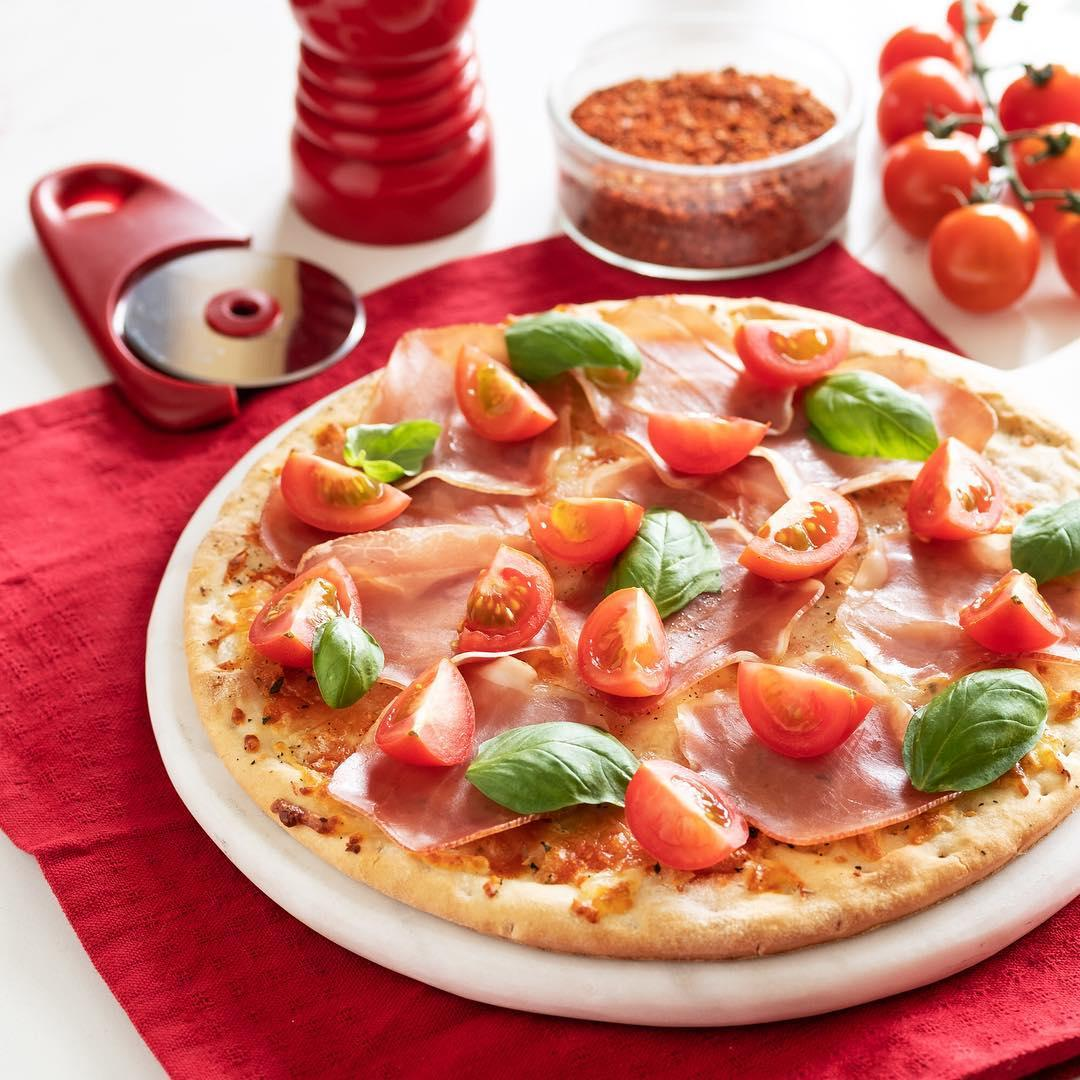Basil: (893, 665, 1046, 796), (471, 725, 644, 804), (807, 367, 924, 464), (513, 301, 634, 384), (627, 513, 718, 612), (349, 417, 440, 477), (1013, 505, 1080, 585), (315, 613, 381, 694)
Ham: (667, 685, 984, 841), (349, 669, 596, 832), (295, 529, 502, 641), (641, 553, 834, 664), (597, 329, 789, 429), (425, 455, 560, 534), (389, 333, 466, 444)
Pizza: (173, 285, 1080, 956)
Tomatoes: (275, 437, 414, 528), (629, 757, 740, 866), (735, 657, 866, 748), (241, 565, 360, 664), (453, 541, 553, 653), (453, 337, 554, 446), (373, 653, 472, 762), (741, 477, 849, 572), (895, 443, 996, 538), (515, 491, 648, 562), (581, 587, 665, 694), (961, 579, 1068, 654), (729, 313, 849, 377), (641, 409, 768, 460)
